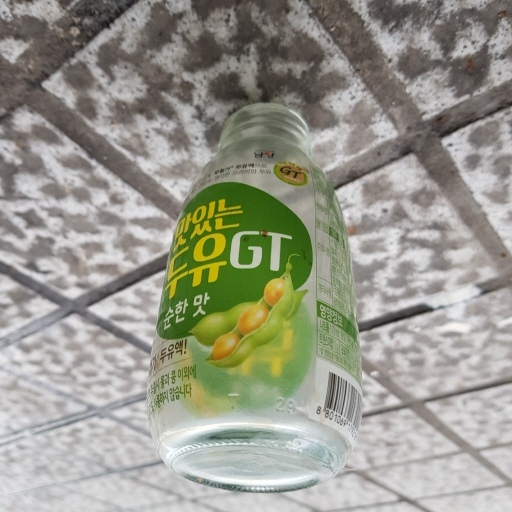Glass_4: (140, 102, 367, 492)
